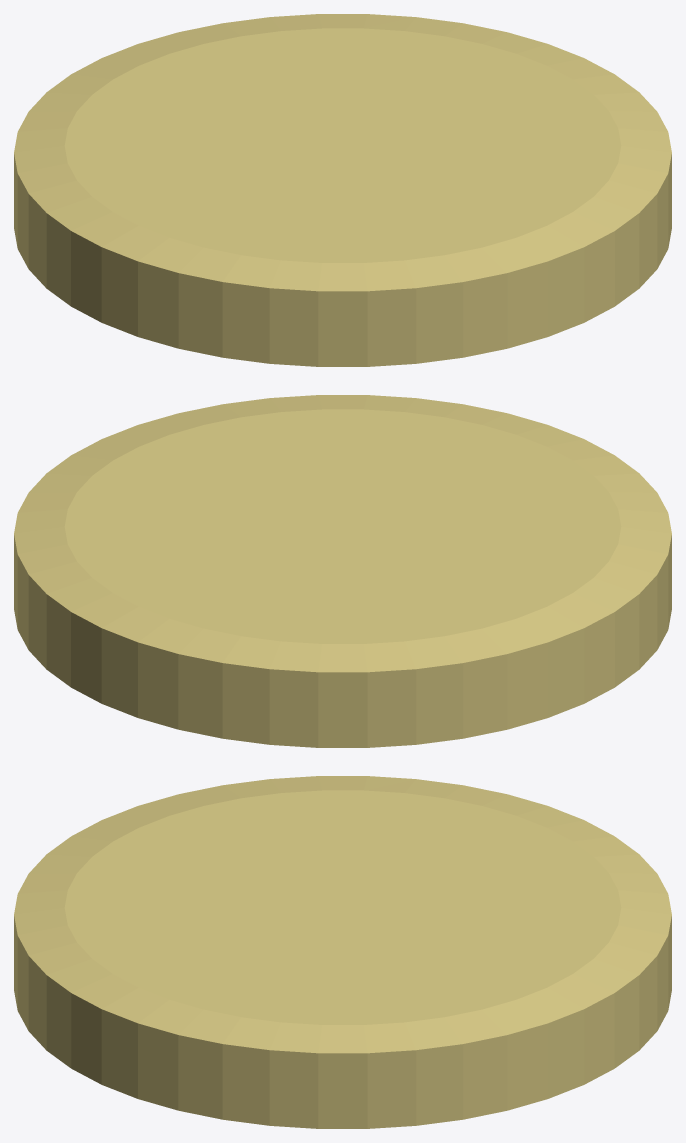
The picture shows the model from 3 angles, top to bottom: view 1: azimuth 30°, elevation 25°; view 2: azimuth 150°, elevation 25°; view 3: azimuth 270°, elevation 25°; orthographic projection.
Parts seen in each view (by area): view 1: Mesh_Mesh_head_geo.001_lambert2SG.001; view 2: Mesh_Mesh_head_geo.001_lambert2SG.001; view 3: Mesh_Mesh_head_geo.001_lambert2SG.001.
Boxes of the visible parts, x1,y1,x2,y2 form: Mesh_Mesh_head_geo.001_lambert2SG.001: (14,14,671,366); Mesh_Mesh_head_geo.001_lambert2SG.001: (14,395,671,747); Mesh_Mesh_head_geo.001_lambert2SG.001: (14,776,671,1128).
Bounding box in the file's own units: 0.0199 × 0.003 × 0.02.
